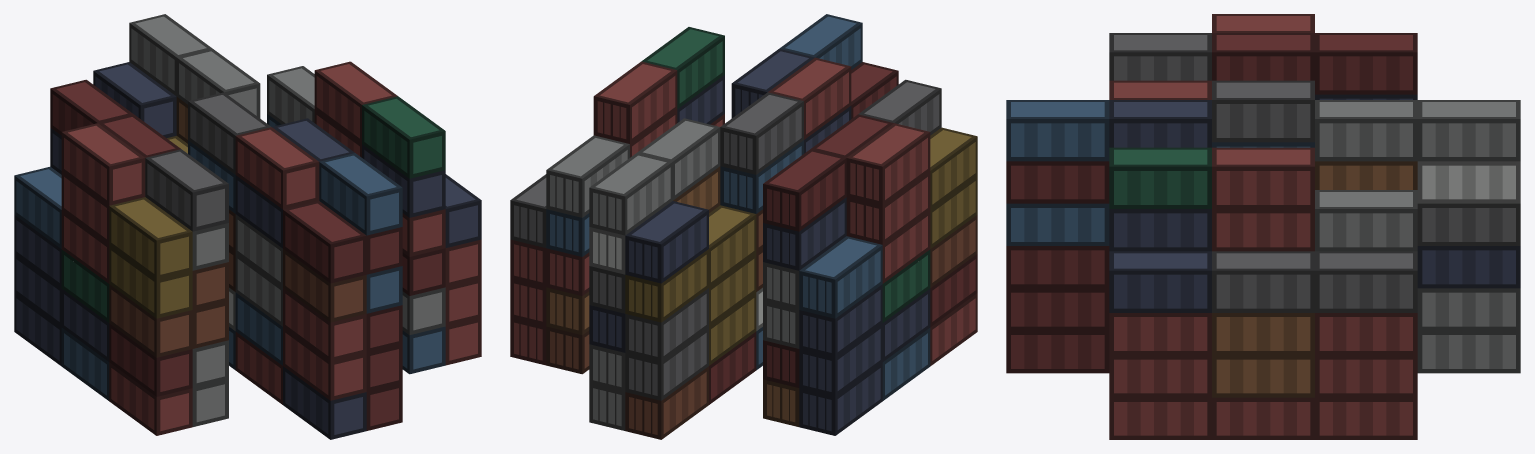
Rendered from light-rows.glb.
The picture shows the model from 3 angles, left to right: view 1: azimuth 30°, elevation 25°; view 2: azimuth 150°, elevation 25°; view 3: azimuth 270°, elevation 25°; orthographic projection. The views are drawn at different scales.
Visible parts, largest first — view 1: light-rows; view 2: light-rows; view 3: light-rows.
Part boxes in pixels (left/top/right/bottom): light-rows: left=14, top=14, right=481, bottom=439; light-rows: left=510, top=14, right=977, bottom=439; light-rows: left=1006, top=14, right=1520, bottom=439.
Size of the model in its own units: 52.2 by 36 by 66.
